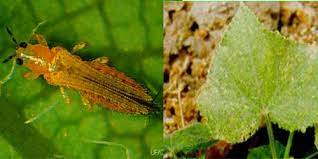Thrips: (5, 27, 163, 128)
